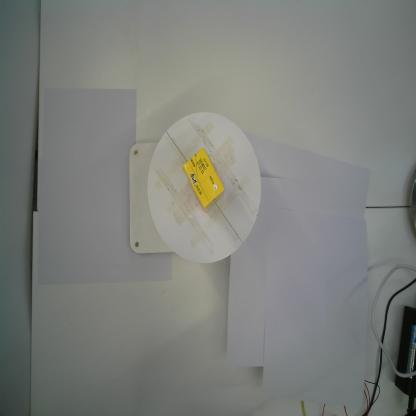Drink: (183, 147, 225, 213)
